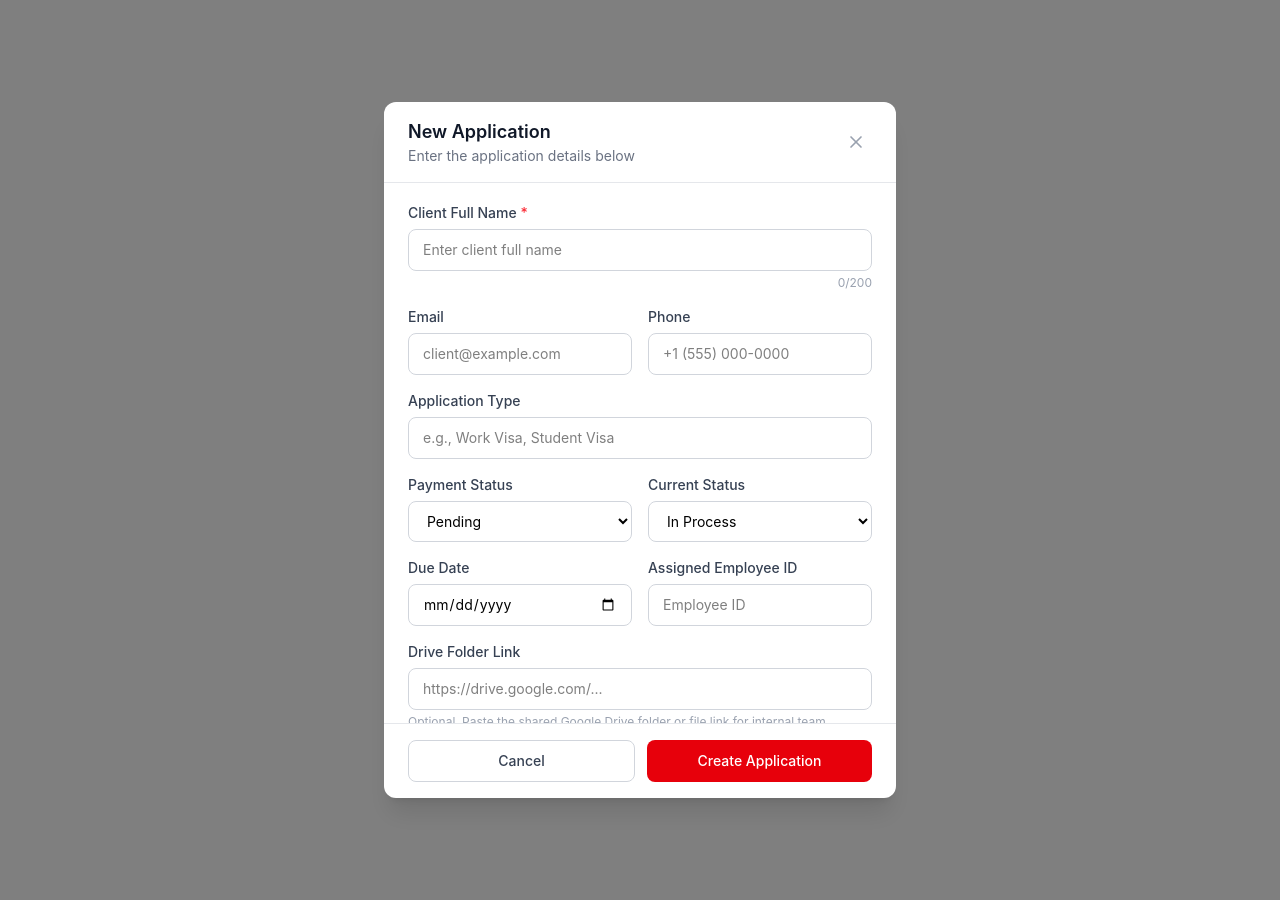
AddApplicationModal Component › Validation › should show error for invalid drive folder link
Type "John Doe" into the field labelled "Client Full Name *" at coordinates (640, 250), box [408,229,872,271]
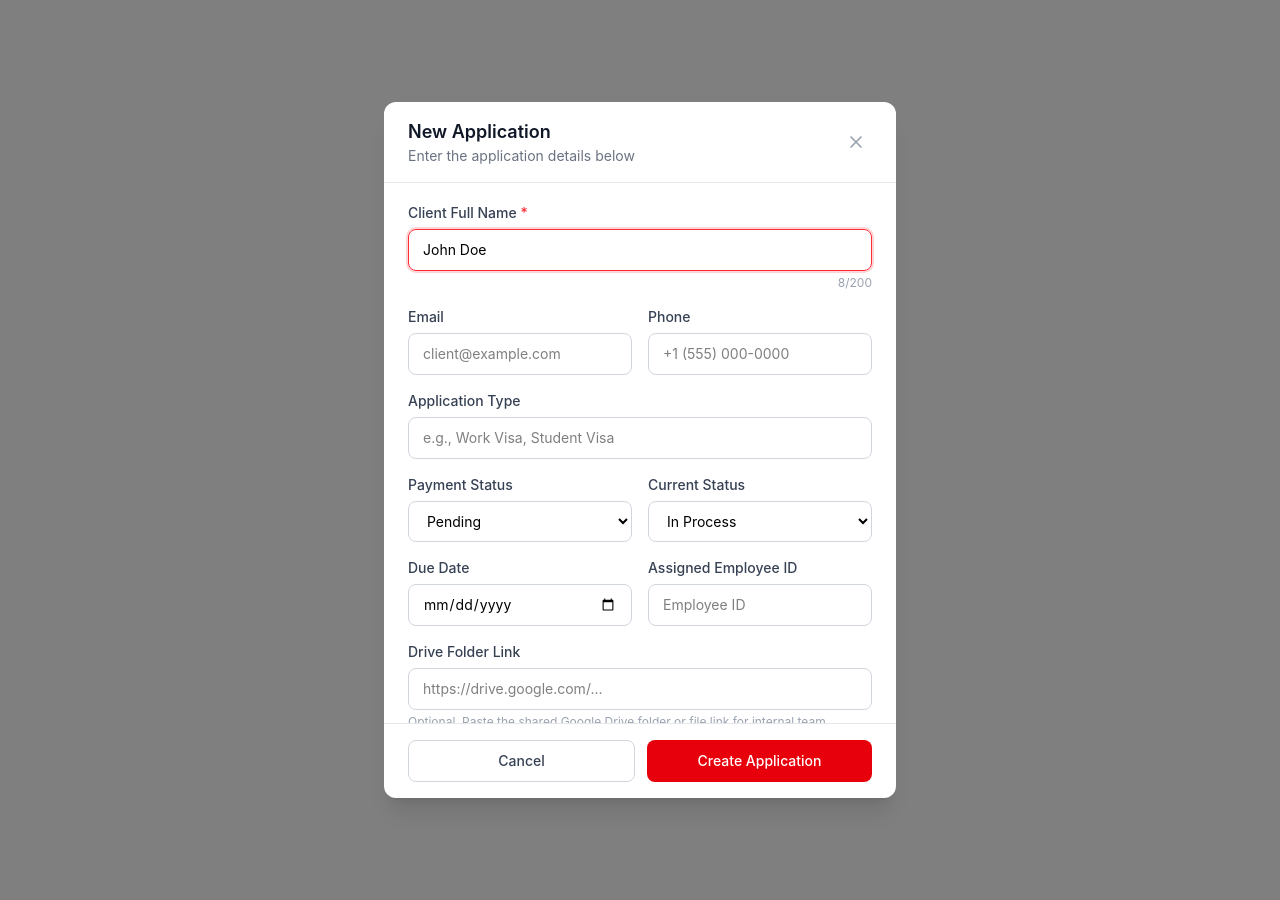
Type "not-a-url" into the field labelled "Drive Folder Link" at coordinates (640, 689), box [408,668,872,710]
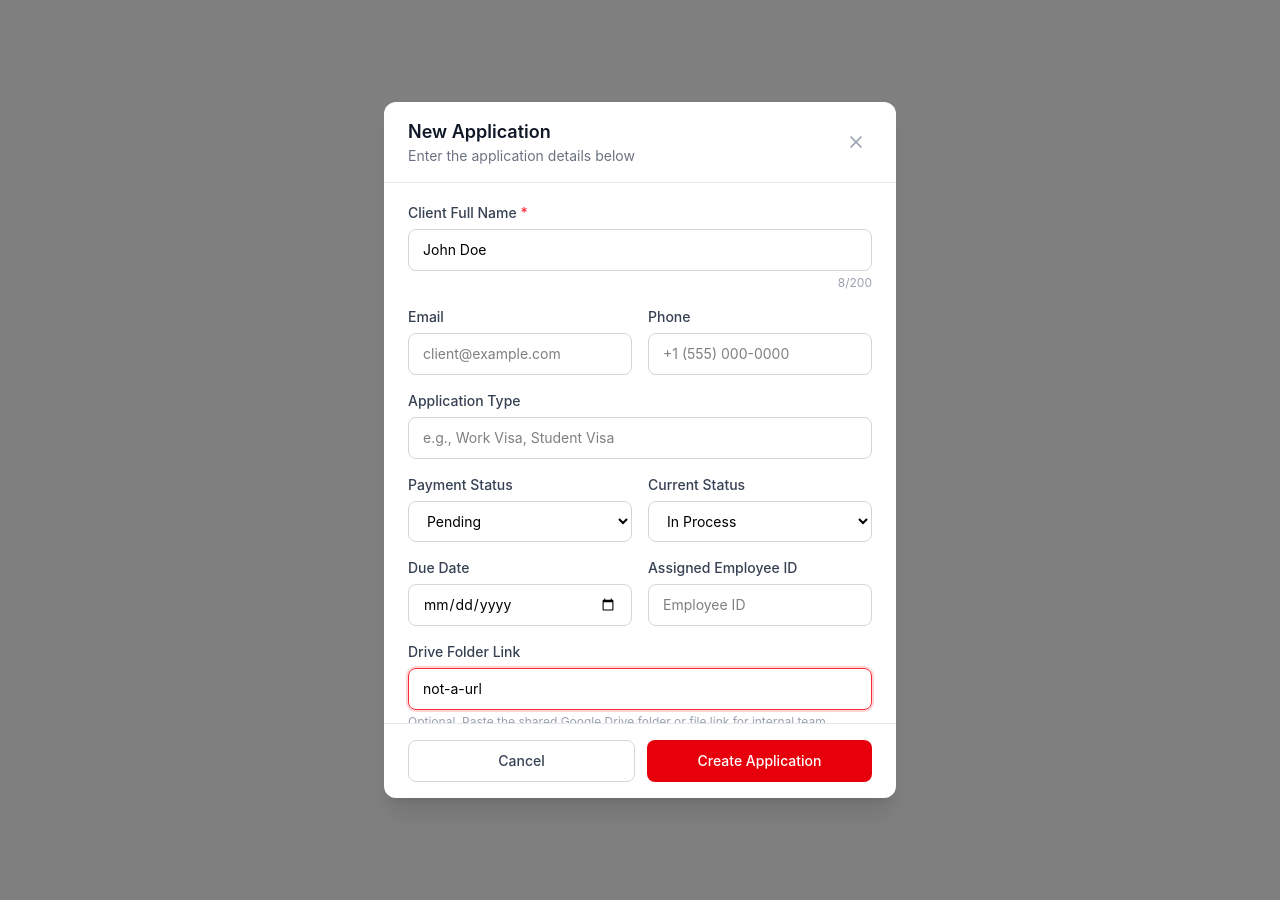
Click the button "Create Application" at coordinates (760, 761), box [647,740,872,782]
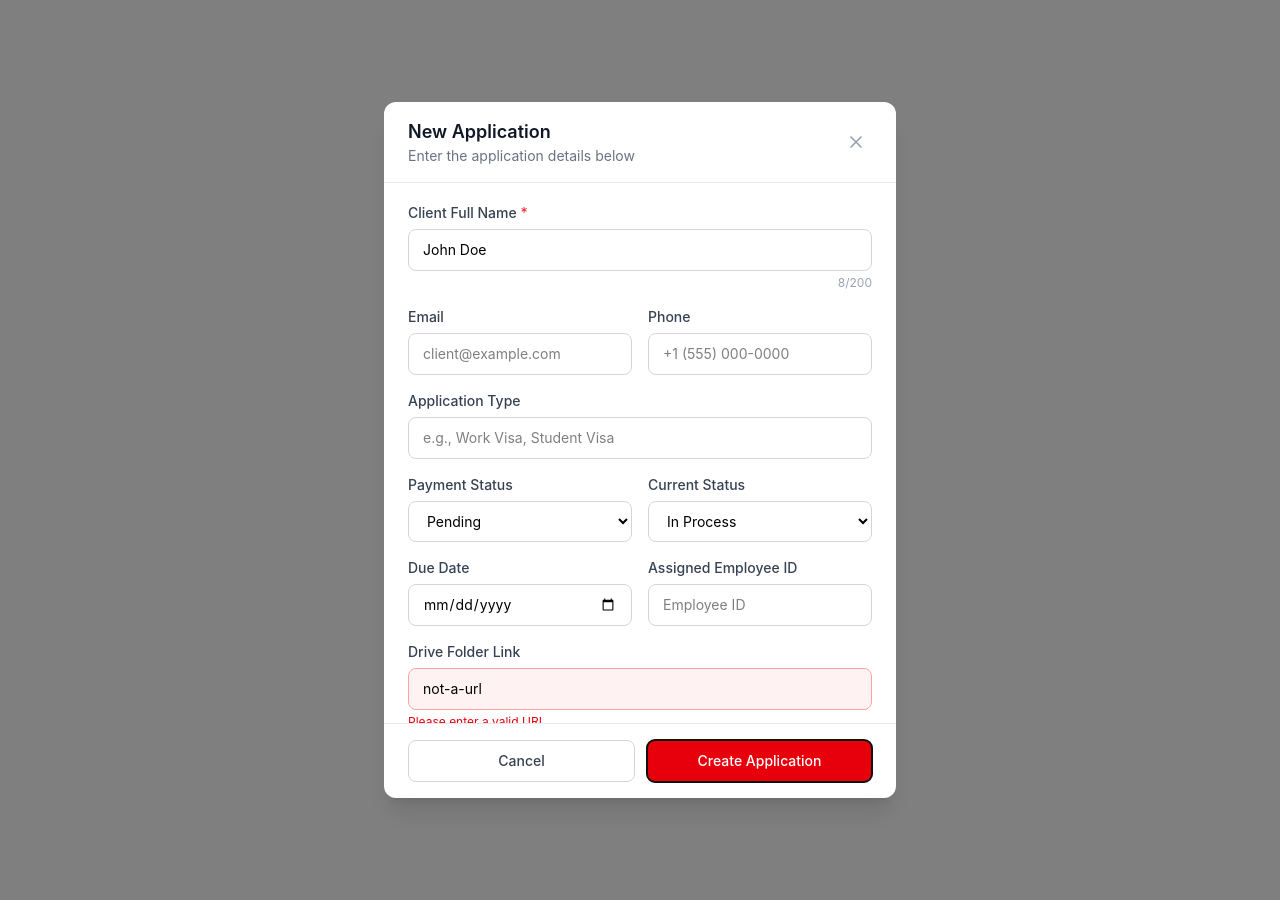
Check: the text "Please enter a valid URL" is shown, box [408,714,545,723]
